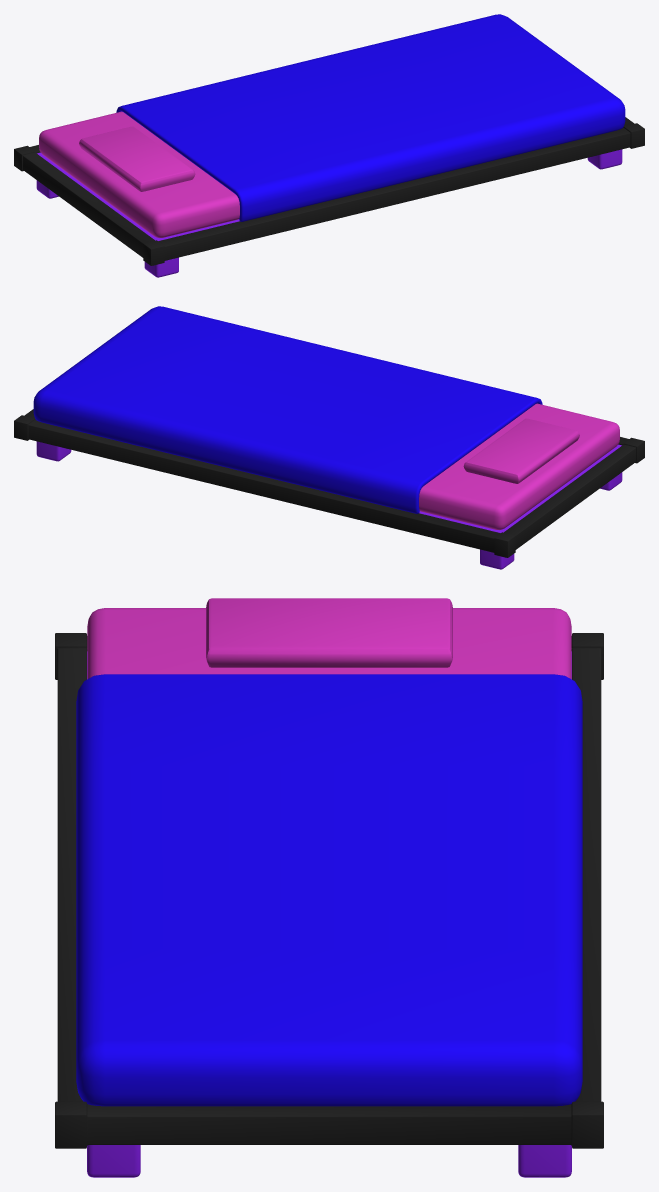
File: SM_Cama.fbx
3 views of the same model, one above another, from view 1: azimuth 30°, elevation 25°; view 2: azimuth 150°, elevation 25°; view 3: azimuth 270°, elevation 25° (orthographic). The views are drawn at different scales.
Visible parts, largest first — view 1: SM_Cama_Manta, SM_Cama_Reborde, SM_Cama_Colchon, SM_Cama_Almohada, SM_Cama_Soportes, SM_Cama_Estructura; view 2: SM_Cama_Manta, SM_Cama_Reborde, SM_Cama_Colchon, SM_Cama_Almohada, SM_Cama_Soportes, SM_Cama_Estructura; view 3: SM_Cama_Manta, SM_Cama_Reborde, SM_Cama_Colchon, SM_Cama_Almohada, SM_Cama_Soportes.
Boxes of the visible parts, left/top/right/bottom form: SM_Cama_Manta: left=116, top=14, right=625, bottom=221; SM_Cama_Reborde: left=14, top=117, right=644, bottom=265; SM_Cama_Colchon: left=39, top=111, right=239, bottom=238; SM_Cama_Almohada: left=79, top=126, right=195, bottom=191; SM_Cama_Soportes: left=36, top=149, right=622, bottom=277; SM_Cama_Estructura: left=37, top=152, right=239, bottom=240; SM_Cama_Manta: left=33, top=306, right=542, bottom=513; SM_Cama_Reborde: left=14, top=409, right=644, bottom=557; SM_Cama_Colchon: left=419, top=403, right=619, bottom=530; SM_Cama_Almohada: left=463, top=418, right=579, bottom=483; SM_Cama_Soportes: left=36, top=441, right=622, bottom=569; SM_Cama_Estructura: left=419, top=444, right=621, bottom=532; SM_Cama_Manta: left=76, top=674, right=582, bottom=1106; SM_Cama_Reborde: left=55, top=633, right=603, bottom=1148; SM_Cama_Colchon: left=87, top=608, right=571, bottom=679; SM_Cama_Almohada: left=206, top=598, right=452, bottom=667; SM_Cama_Soportes: left=87, top=1145, right=571, bottom=1177.
Size of the model in its own units: 212 by 29 by 102.
